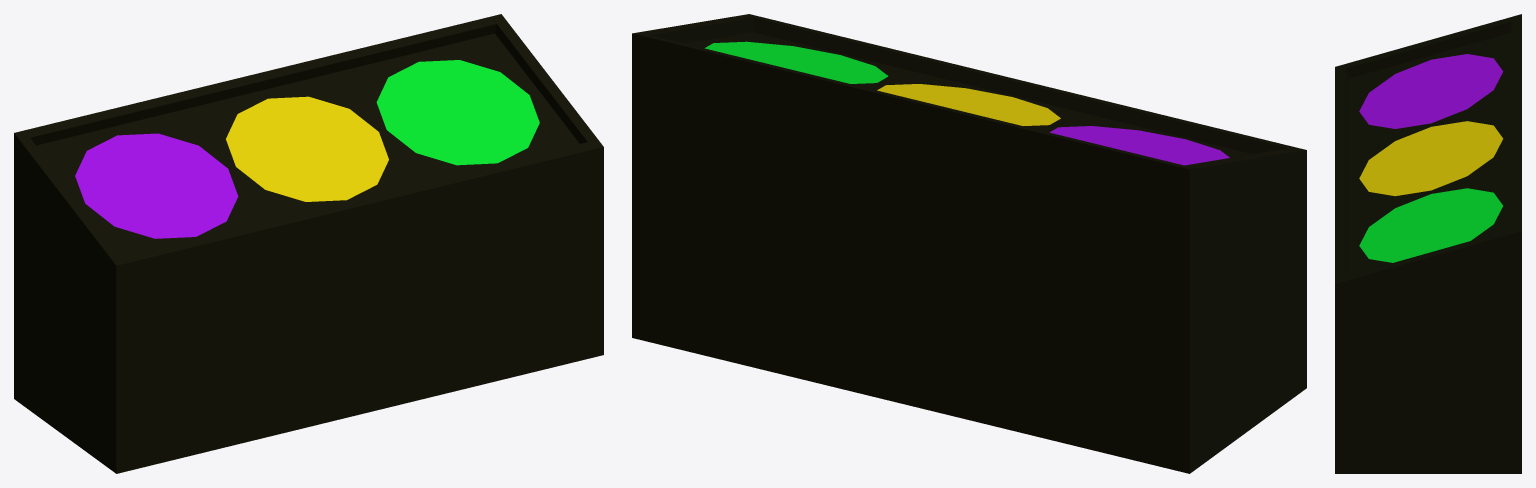
The model's file is StandDiscos_low.fbx.
3 renders of one model, left to right at view 1: azimuth 30°, elevation 25°; view 2: azimuth 150°, elevation 25°; view 3: azimuth 270°, elevation 25°, orthographic. The views are drawn at different scales.
Parts seen in each view (by area): view 1: PuestoDeDiscos_low, Disco3_low, Disco1_low, Disco2_low; view 2: PuestoDeDiscos_low, Disco3_low, Disco2_low, Disco1_low; view 3: PuestoDeDiscos_low, Disco1_low, Disco2_low, Disco3_low.
Boxes of the visible parts, bbox=[...] form: PuestoDeDiscos_low: bbox=[14, 14, 603, 473]; Disco3_low: bbox=[376, 60, 539, 165]; Disco1_low: bbox=[75, 133, 238, 238]; Disco2_low: bbox=[226, 96, 388, 201]; PuestoDeDiscos_low: bbox=[632, 14, 1306, 473]; Disco3_low: bbox=[704, 41, 888, 83]; Disco2_low: bbox=[877, 84, 1060, 125]; Disco1_low: bbox=[1049, 126, 1229, 165]; PuestoDeDiscos_low: bbox=[1335, 14, 1521, 473]; Disco1_low: bbox=[1359, 54, 1503, 128]; Disco2_low: bbox=[1359, 121, 1503, 196]; Disco3_low: bbox=[1359, 188, 1502, 262].
Size of the model in its own units: 92.84 by 48.44 by 33.78.
